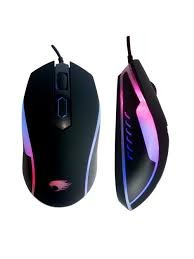mouse: (21, 56, 106, 219), (105, 56, 172, 211)
